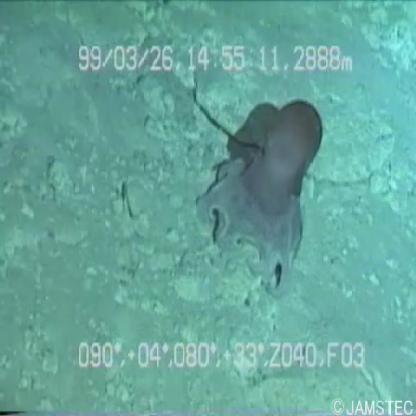Bio: (190, 96, 328, 303)
